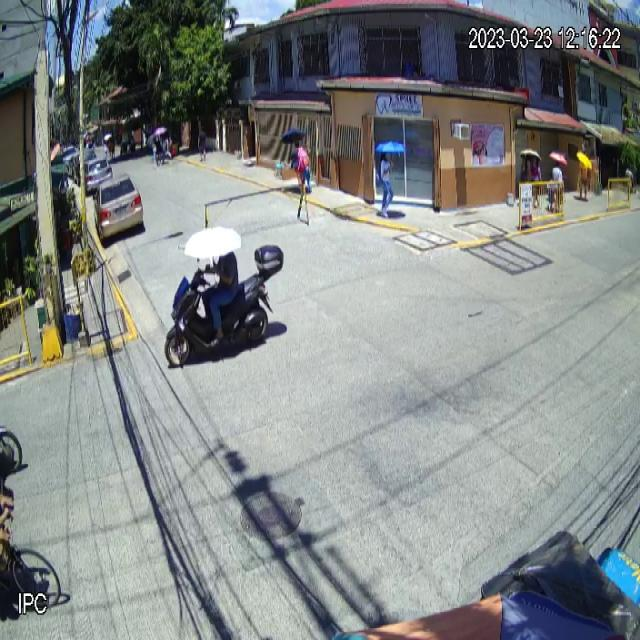Motorcycle: (163, 244, 284, 370)
